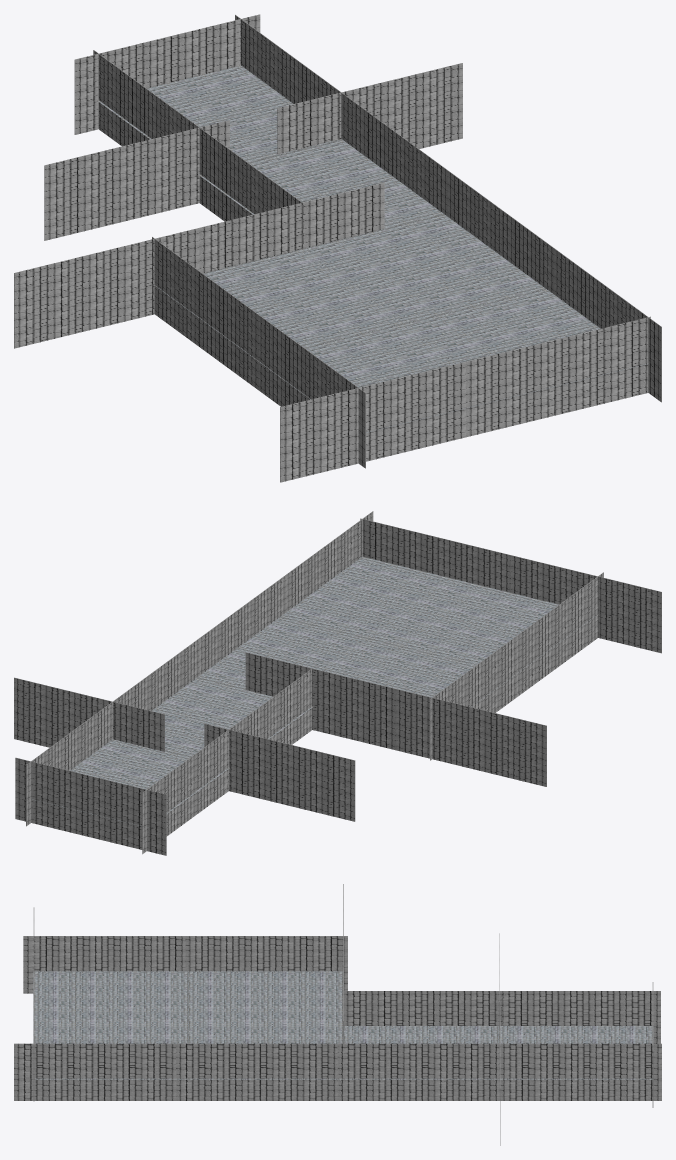
Rendered from background.fbx.
3 views of the same model, one above another, from view 1: azimuth 30°, elevation 25°; view 2: azimuth 150°, elevation 25°; view 3: azimuth 270°, elevation 25° (orthographic). The views are drawn at different scales.
Parts seen in each view (by area): view 1: Box011, Box020, Box021, Box006, Box017, Box012, Box005, Box009, Box018, Box013, Box003, Box001 (+9 smaller); view 2: Box013, Box017, Box003, Box006, Box009, Box014, Box021, Box011, Box005, Box020, Box019, Box007 (+9 smaller); view 3: Box004, Box010, Box016, Box015, Box014, Box012, Box019, Box018, Box002, Box008, Box013, Box011 (+2 smaller).
Boxes of the visible parts, box(x1,y1,x2,y2) form: Box011: box(301, 214, 546, 323); Box020: box(465, 316, 650, 437); Box021: box(280, 362, 465, 482); Box006: box(44, 120, 229, 240); Box017: box(14, 228, 199, 348); Box012: box(154, 249, 401, 359); Box005: box(277, 63, 462, 154); Box009: box(199, 183, 384, 273); Box018: box(152, 237, 258, 390); Box013: box(402, 289, 648, 398); Box003: box(74, 14, 260, 134); Box001: box(97, 65, 342, 174); Box013: box(280, 556, 479, 645); Box017: box(396, 689, 546, 786); Box003: box(15, 757, 166, 855); Box006: box(204, 723, 355, 821); Box009: box(245, 652, 396, 750); Box014: box(397, 585, 598, 674); Box021: box(511, 555, 661, 653); Box011: box(197, 617, 396, 689); Box005: box(14, 677, 164, 751); Box020: box(360, 518, 510, 592); Box019: box(517, 572, 603, 696); Box007: box(152, 678, 313, 757); Box004: box(499, 1043, 661, 1100); Box010: box(337, 1043, 500, 1100); Box016: box(14, 1043, 176, 1100); Box015: box(176, 1043, 338, 1100); Box014: box(33, 971, 188, 1024); Box012: box(188, 971, 343, 1024); Box019: box(23, 936, 185, 993); Box018: box(185, 936, 347, 990); Box002: box(498, 991, 660, 1043); Box008: box(343, 991, 505, 1025); Box013: box(33, 1025, 188, 1079); Box011: box(188, 1025, 343, 1079).
Size of the model in its own units: 5335 by 696 by 7142.
2 materials, 2 textured.
